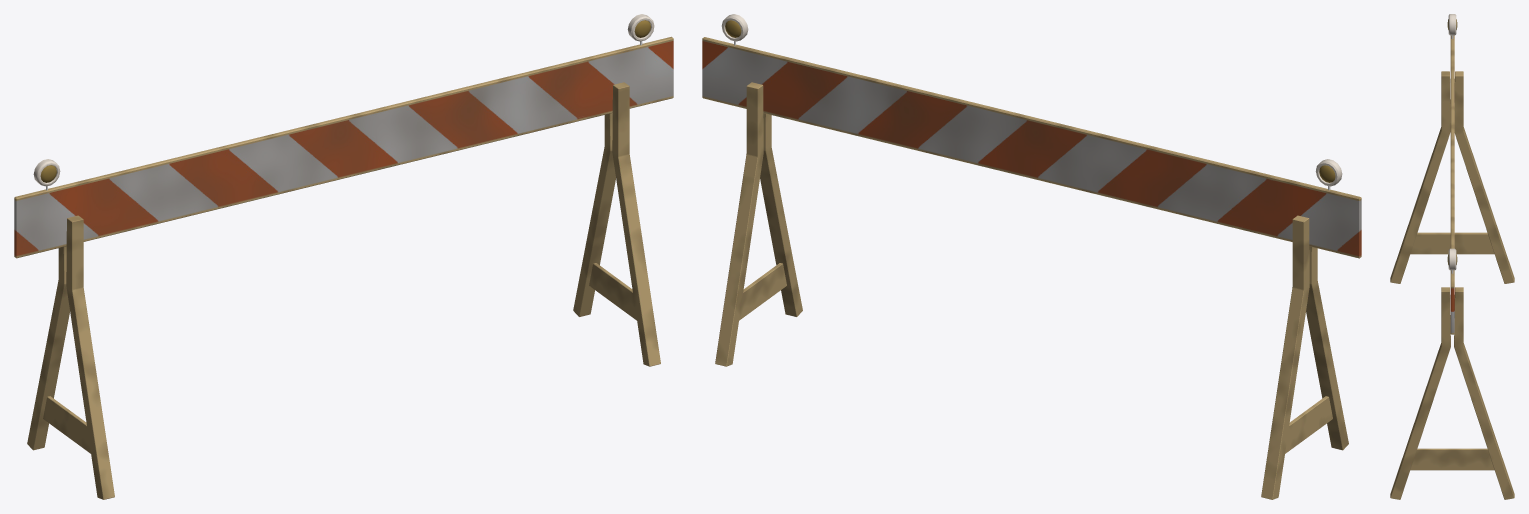
File: Long barrier.fbx
The picture shows the model from 3 angles, left to right: view 1: azimuth 30°, elevation 25°; view 2: azimuth 150°, elevation 25°; view 3: azimuth 270°, elevation 25°; orthographic projection. The views are drawn at different scales.
Visible parts, largest first — view 1: Long barrier; view 2: Long barrier; view 3: Long barrier.
Boxes of the visible parts, <box> form: Long barrier: <box>14,14,673,499</box>; Long barrier: <box>702,14,1361,499</box>; Long barrier: <box>1390,14,1514,499</box>.
Bounding box in the file's own units: 217 × 100 × 43.69.
